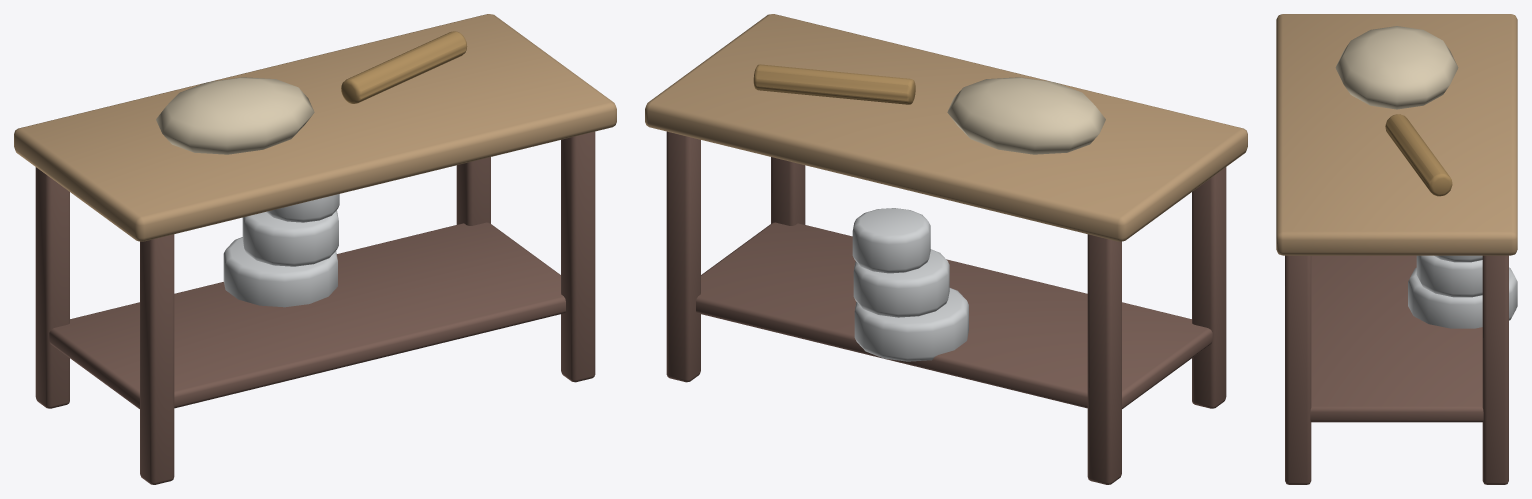
The model's file is f_worktable.glb.
3 renders of one model, left to right at view 1: azimuth 30°, elevation 25°; view 2: azimuth 150°, elevation 25°; view 3: azimuth 270°, elevation 25°, orthographic. The views are drawn at different scales.
Visible parts, largest first — view 1: f_worktable; view 2: f_worktable; view 3: f_worktable.
Boxes of the visible parts, bbox=[...] form: f_worktable: bbox=[14, 14, 616, 484]; f_worktable: bbox=[645, 14, 1247, 484]; f_worktable: bbox=[1276, 14, 1517, 484].
Bounding box in the file's own units: 2.4 × 1.53 × 1.1.
